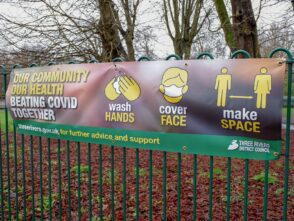vinyl banner: (4, 58, 286, 160)
